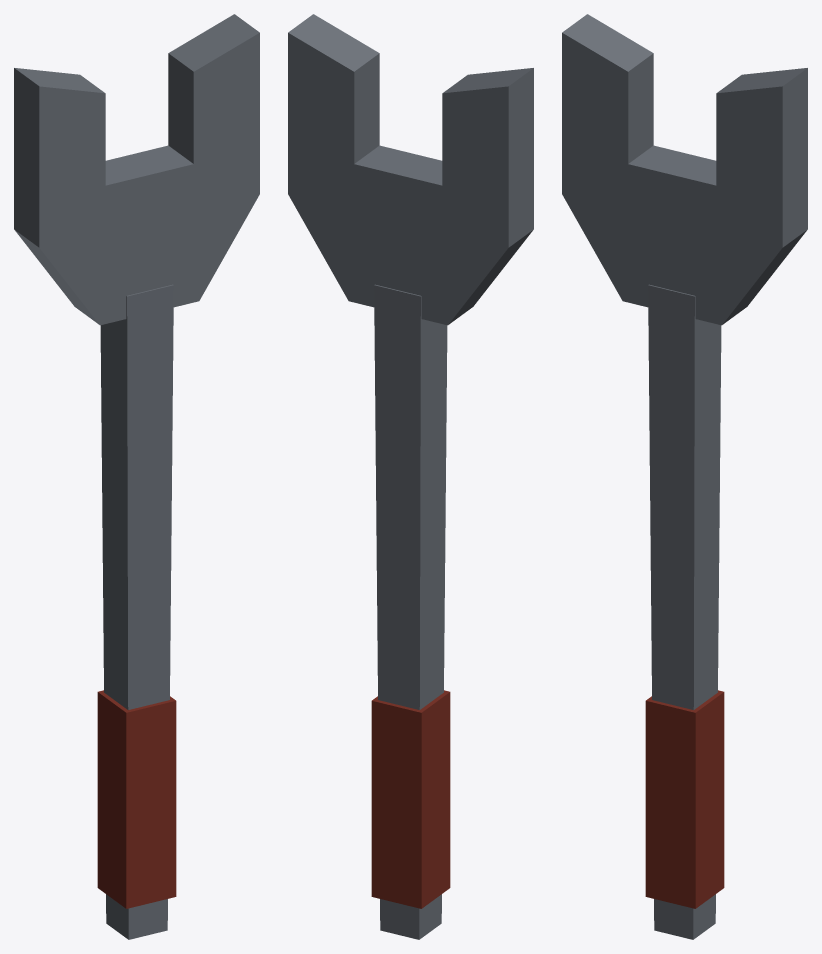
File: SM_Prop_BigWrench_LQ.glb
The picture shows the model from 3 angles, left to right: view 1: azimuth 30°, elevation 25°; view 2: azimuth 150°, elevation 25°; view 3: azimuth 330°, elevation 25°; orthographic projection.
Parts seen in each view (by area): view 1: SM_Prop_BigWrench_LQ; view 2: SM_Prop_BigWrench_LQ; view 3: SM_Prop_BigWrench_LQ.
Part boxes in pixels (bbox=[...]): SM_Prop_BigWrench_LQ: bbox=[14, 14, 259, 939]; SM_Prop_BigWrench_LQ: bbox=[288, 14, 533, 939]; SM_Prop_BigWrench_LQ: bbox=[562, 14, 807, 939].
Size of the model in its own units: 0.2 by 0.76 by 0.0453.
1 material, 1 textured.
